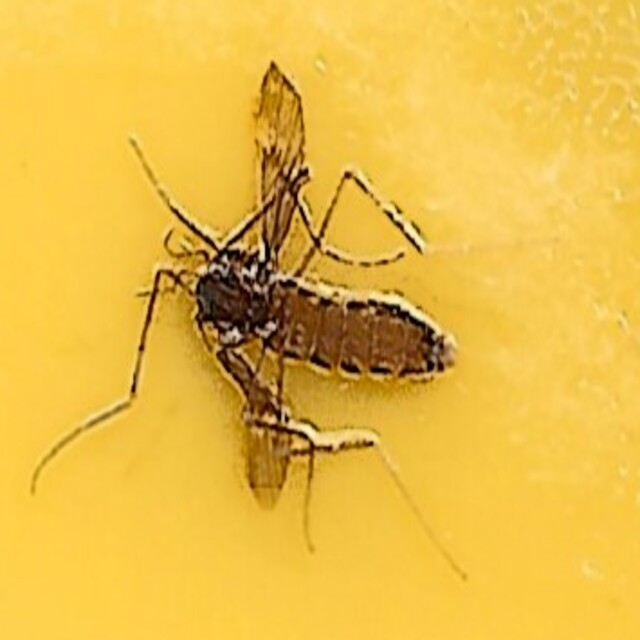Nematocera: (180, 245, 460, 395)
